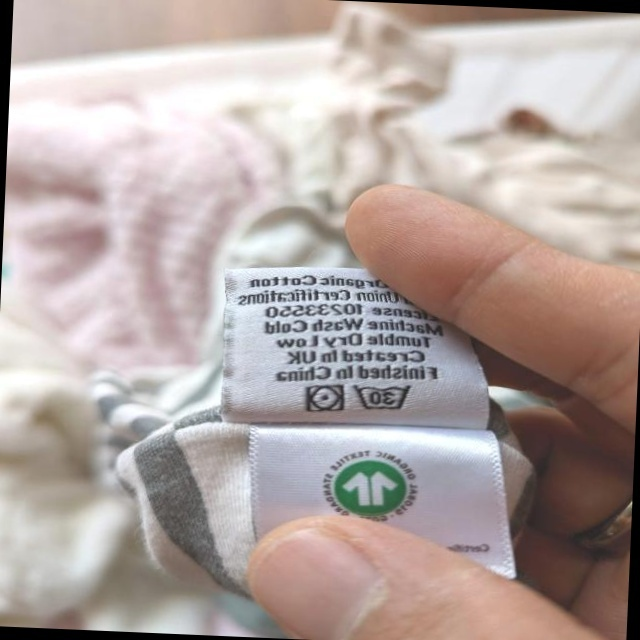30C: (350, 378, 416, 415)
tumble_dry_low: (302, 380, 347, 417)
